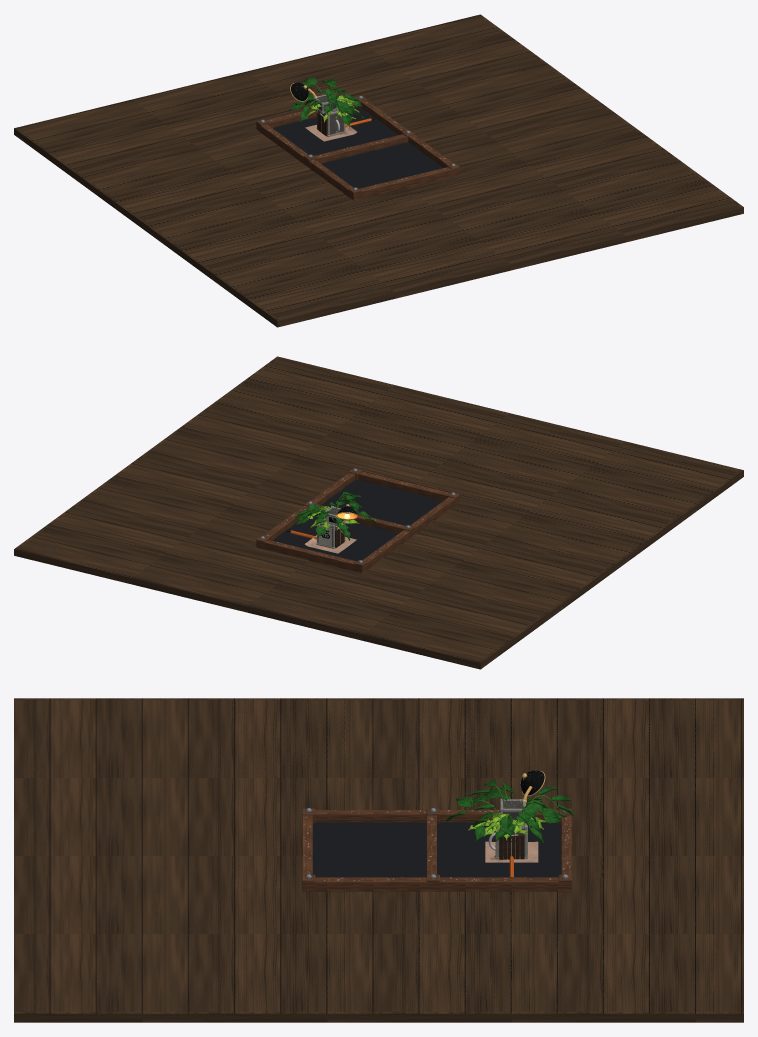
The model's file is night_desk.glb.
The picture shows the model from 3 angles, top to bottom: view 1: azimuth 30°, elevation 25°; view 2: azimuth 150°, elevation 25°; view 3: azimuth 270°, elevation 25°; orthographic projection. The views are drawn at different scales.
Visible parts, largest first — view 1: DeskTopMeshLong, DeskTopMesh, TrayBaseSlabLong, TrayWoodMeshLong, TrayWoodMesh, TrayBaseSlab, PlantLeaves; view 2: DeskTopMeshLong, DeskTopMesh, TrayBaseSlabLong, TrayWoodMeshLong, TrayWoodMesh, TrayBaseSlab, PlantLeaves; view 3: DeskTopMesh, DeskTopMeshLong, TrayBaseSlabLong, TrayWoodMeshLong, TrayBaseSlab, TrayWoodMesh, PlantLeaves, PlantBoxPotMesh, PlantBoxLeaves, SketchPaperMesh.
Boxes of the visible parts, x1=… form: DeskTopMeshLong: x1=14, y1=15, x2=743, y2=327; DeskTopMesh: x1=14, y1=14, x2=670, y2=273; TrayBaseSlabLong: x1=274, y1=107, x2=443, y2=188; TrayWoodMeshLong: x1=260, y1=101, x2=459, y2=200; TrayWoodMesh: x1=256, y1=95, x2=414, y2=166; TrayBaseSlab: x1=273, y1=107, x2=398, y2=153; PlantLeaves: x1=288, y1=78, x2=363, y2=128; DeskTopMeshLong: x1=15, y1=356, x2=743, y2=667; DeskTopMesh: x1=14, y1=409, x2=671, y2=669; TrayBaseSlabLong: x1=273, y1=479, x2=443, y2=560; TrayWoodMeshLong: x1=263, y1=468, x2=459, y2=571; TrayWoodMesh: x1=256, y1=501, x2=414, y2=573; TrayBaseSlab: x1=272, y1=517, x2=395, y2=561; PlantLeaves: x1=295, y1=492, x2=377, y2=540; DeskTopMesh: x1=213, y1=698, x2=743, y2=1022; DeskTopMeshLong: x1=14, y1=698, x2=743, y2=1022; TrayBaseSlabLong: x1=312, y1=822, x2=561, y2=877; TrayWoodMeshLong: x1=302, y1=808, x2=570, y2=891; TrayBaseSlab: x1=437, y1=822, x2=561, y2=877; TrayWoodMesh: x1=426, y1=808, x2=571, y2=891; PlantLeaves: x1=446, y1=780, x2=574, y2=843; PlantBoxPotMesh: x1=481, y1=814, x2=524, y2=859; PlantBoxLeaves: x1=468, y1=813, x2=545, y2=840; SketchPaperMesh: x1=485, y1=841, x2=538, y2=862.
Size of the model in its own units: 90 by 10.31 by 88.
33 materials, 13 textured.
